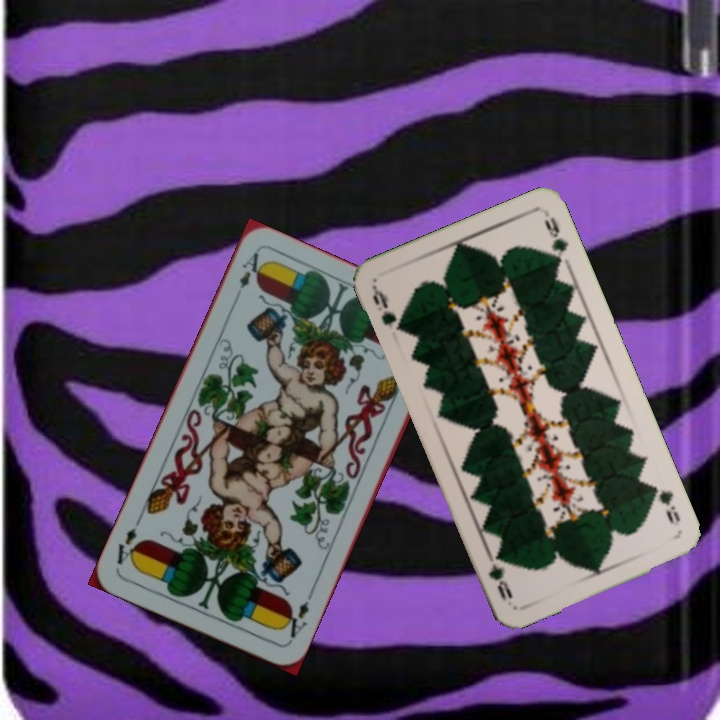EA: (279, 597, 312, 645), (235, 248, 267, 291)
G9: (368, 282, 407, 335), (646, 481, 683, 527)
